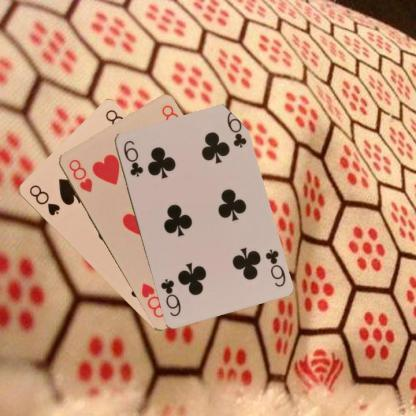6c: (262, 246, 287, 288), (120, 137, 144, 178)
8h: (66, 156, 93, 194)
8s: (26, 182, 61, 217)
